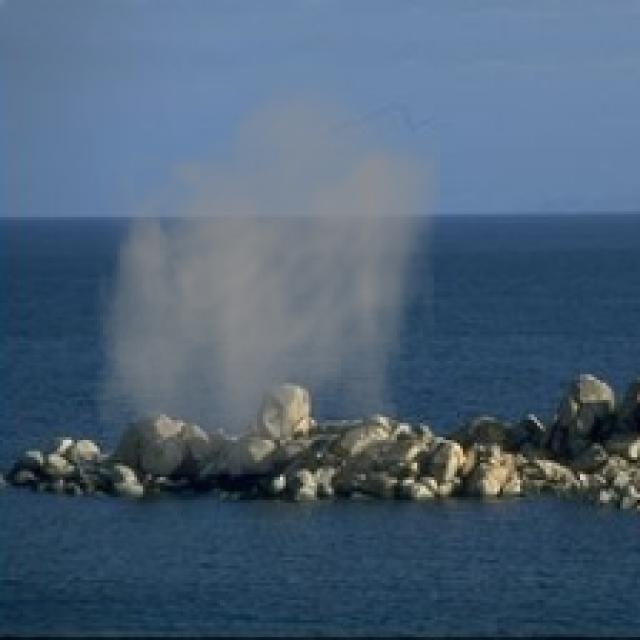Smoke: (94, 66, 440, 474)
